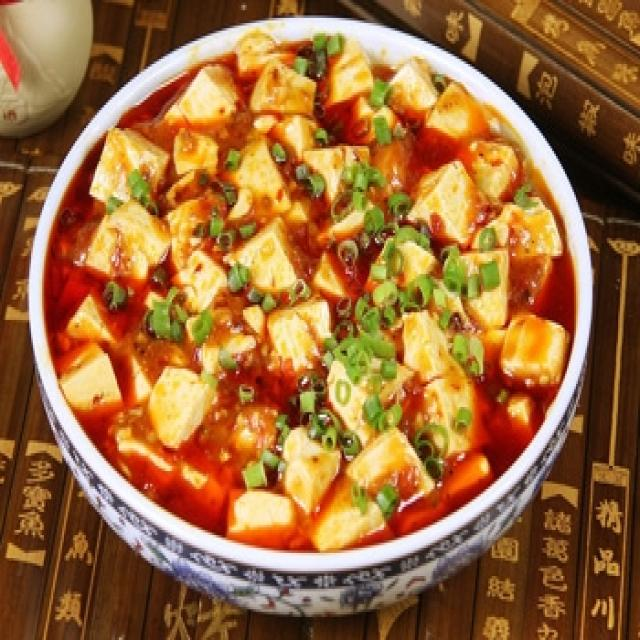豆腐料理: (36, 23, 588, 584)
